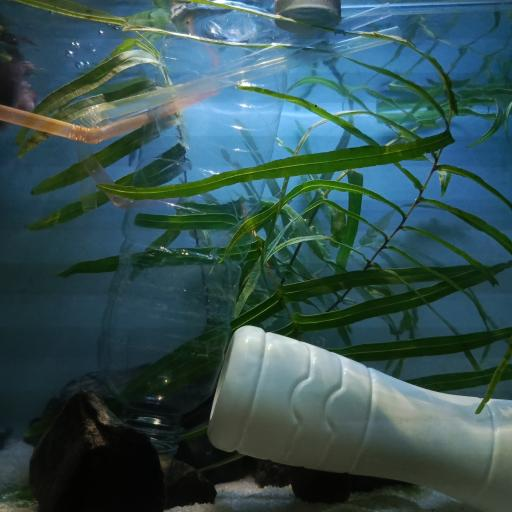bottle_cap: (273, 0, 344, 32)
plastic_bottle: (98, 36, 288, 463), (206, 320, 512, 512)
plastic_straw: (74, 28, 428, 208), (160, 4, 392, 74), (0, 94, 214, 144), (341, 0, 512, 17)
